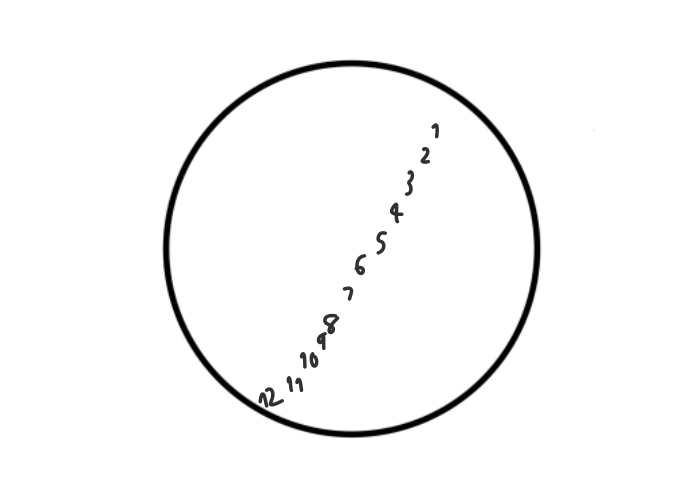eight: (321, 312, 343, 333)
eleven: (283, 373, 309, 394)
five: (372, 230, 389, 256)
four: (388, 201, 403, 226)
nine: (313, 331, 329, 351)
one: (430, 122, 444, 139)
seven: (339, 284, 359, 304)
six: (352, 251, 368, 278)
ten: (298, 350, 322, 371)
three: (404, 168, 416, 200)
twelve: (257, 385, 283, 408)
two: (419, 144, 433, 167)
